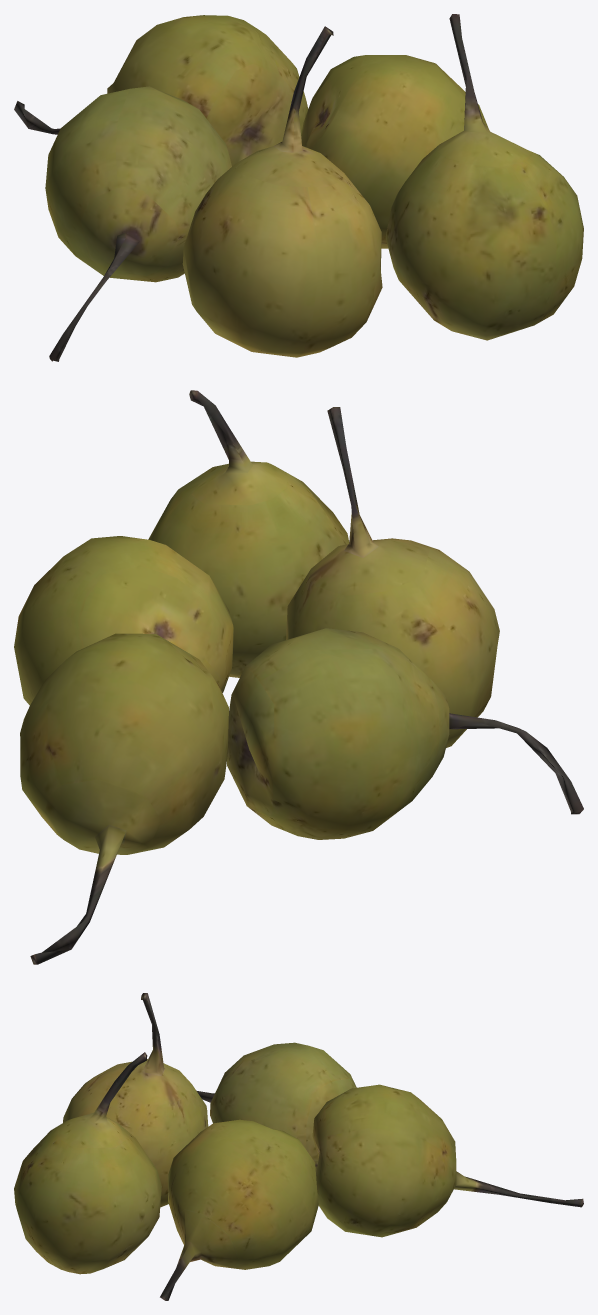
Rendered from food_pears_asian_01.glb.
3 renders of one model, top to bottom at view 1: azimuth 30°, elevation 25°; view 2: azimuth 150°, elevation 25°; view 3: azimuth 270°, elevation 25°, orthographic. The views are drawn at different scales.
Visible parts, largest first — view 1: food_pears_asian_01_b; view 2: food_pears_asian_01_b; view 3: food_pears_asian_01_b.
Boxes of the visible parts, x1,y1,x2,y2 form: food_pears_asian_01_b: [14, 14, 583, 361]; food_pears_asian_01_b: [14, 390, 583, 964]; food_pears_asian_01_b: [14, 993, 583, 1300].
Size of the model in its own units: 0.1261 by 0.0711 by 0.1666.
Materials: 1 (1 with a texture image).
